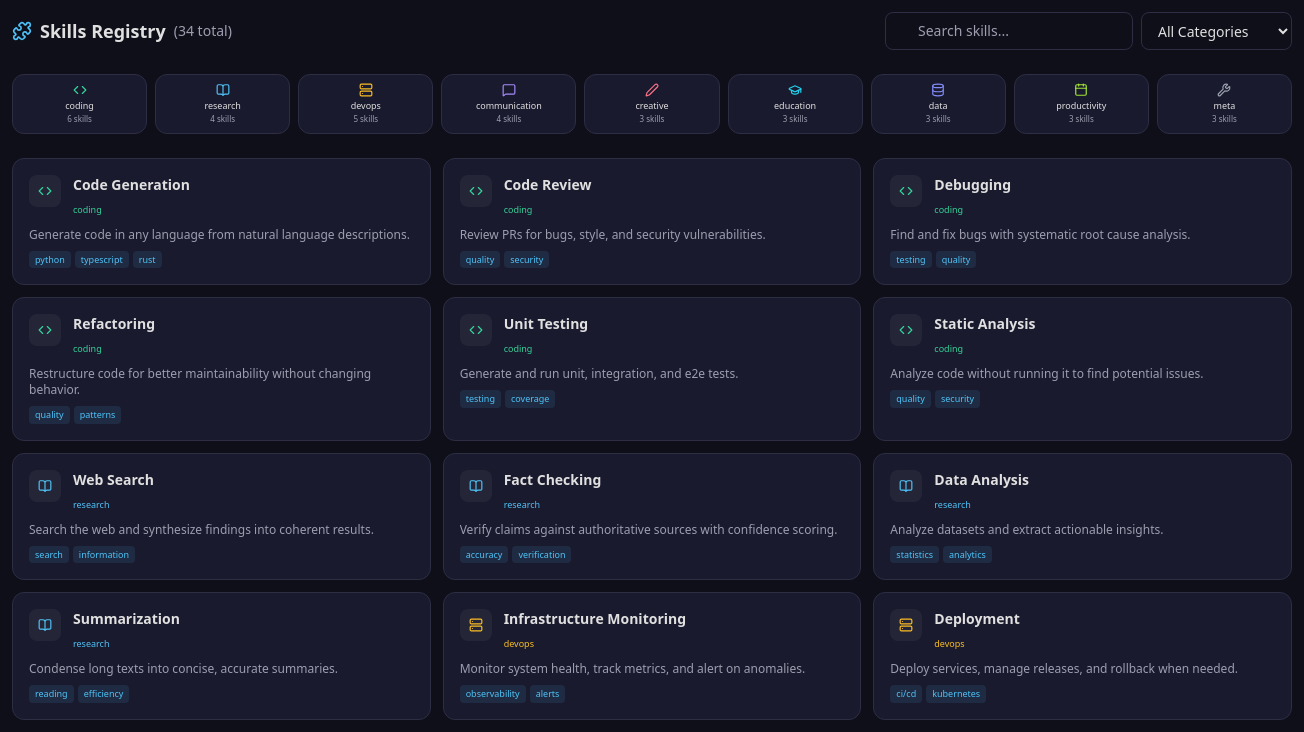
Test: SkillsRegistry › filters skills by category when category button is clicked
Expected: the heading "Skills Registry (34 total)" is shown, x1=12 y1=17 x2=232 y2=45
Click the button "coding 6 skills" at (80, 104), box x1=12 y1=74 x2=147 y2=134
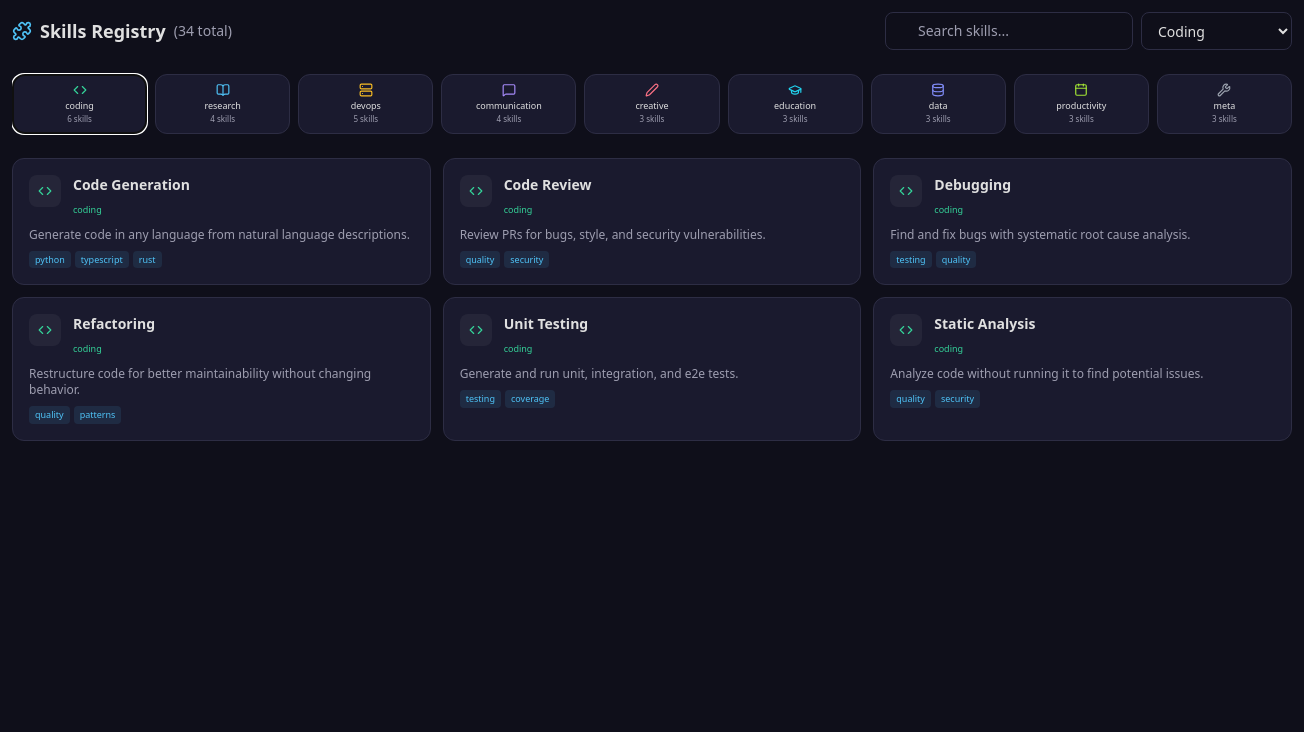
Expected: the heading "Code Generation" is shown, x1=73 y1=174 x2=190 y2=194
Expected: the heading "Web Search" is gone
